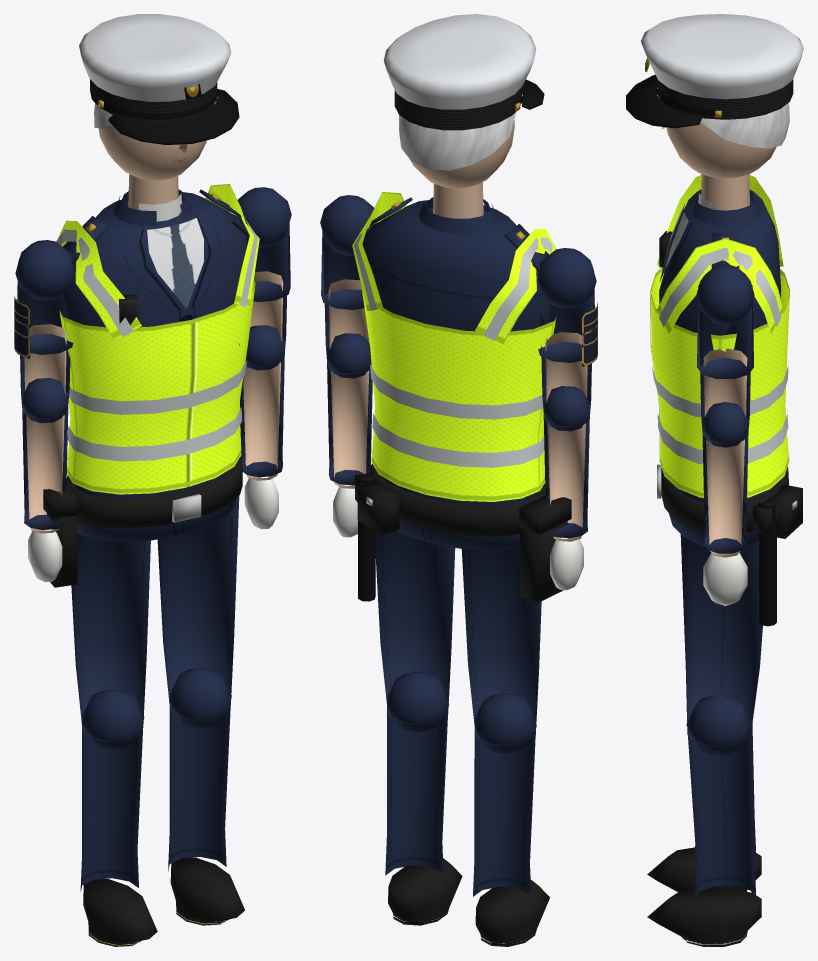
File: police.glb
3 renders of one model, left to right at view 1: azimuth 30°, elevation 25°; view 2: azimuth 150°, elevation 25°; view 3: azimuth 270°, elevation 25°, orthographic.
Visible parts, largest first — view 1: Vest, Torso, ShinL, ShinR, ThighR, ThighL, CapCover, Cap, ForearmBareL, ForearmBareR, UpperArmShortR, Tie (+6 smaller); view 2: Vest, Torso, ShinR, ShinL, CapCover, ThighL, ThighR, ForearmBareL, UpperArmShortR, ForearmBareR, HairShort, UpperArmShortL (+6 smaller); view 3: Vest, ShinL, Torso, CapCover, ThighL, ForearmBareL, Cap, UpperArmL, UpperArmShortL, Head, ForearmL, HairShort (+2 smaller).
Boxes of the visible parts, x1,y1,x2,y2 form: Vest: (56,184,259,494); Torso: (43,174,249,587); ShinL: (168,668,244,925); ShinR: (80,689,157,946); ThighR: (71,533,150,742); ThighL: (157,496,239,721); CapCover: (79,14,231,101); Cap: (90,79,239,144); ForearmBareL: (243,362,280,529); ForearmBareR: (26,415,64,582); UpperArmShortR: (14,240,73,394); Tie: (139,193,203,308); Vest: (352,192,556,501); Torso: (355,182,571,602); ShinR: (473,693,549,946); ShinL: (385,672,462,925); CapCover: (383,14,536,109); ThighL: (375,531,455,724); ThighR: (461,547,541,746); ForearmBareL: (330,370,369,537); UpperArmShortR: (538,248,597,402); ForearmBareR: (547,423,585,590); HairShort: (399,111,516,170); UpperArmShortL: (321,195,374,373); Vest: (650,175,789,497); ShinL: (647,695,761,946); Torso: (657,174,802,626); CapCover: (640,14,803,99); ThighL: (680,534,762,746); ForearmBareL: (703,439,747,605); Cap: (626,58,793,128); UpperArmL: (696,266,754,443); UpperArmShortL: (697,265,754,437); Head: (661,122,776,178); ForearmL: (702,402,749,553); HairShort: (700,103,789,148).
Size of the model in its own units: 0.5842 by 1.83 by 0.3357.
8 materials, 6 textured.
